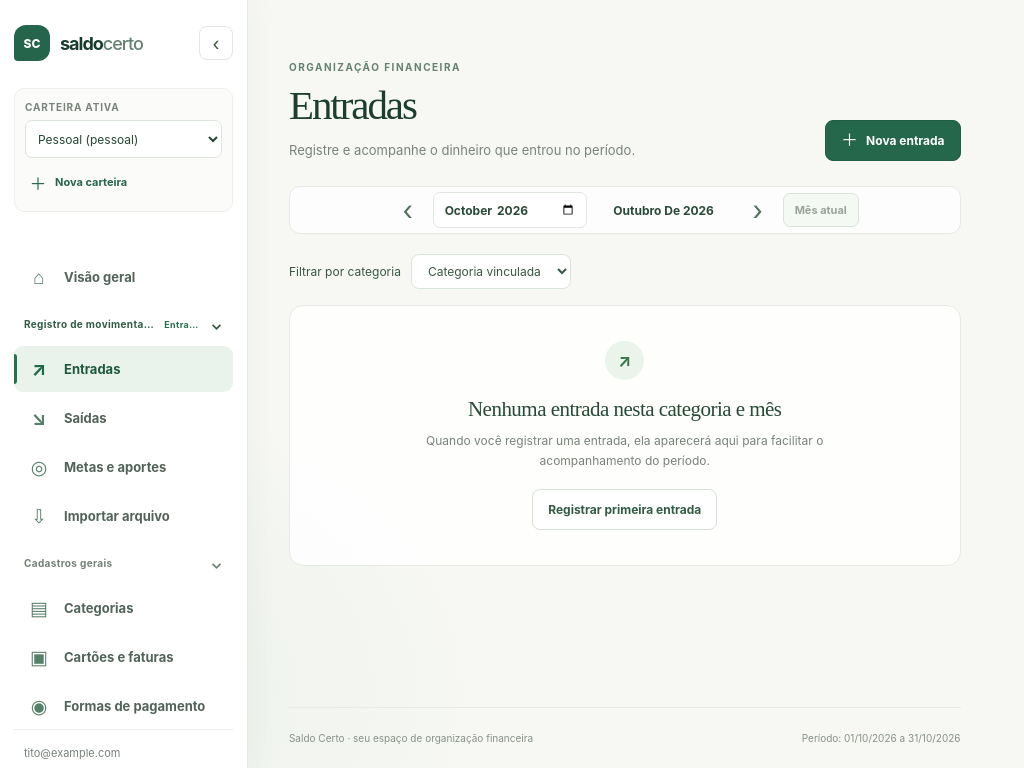
Scenario: IncomesPage currency input › keeps a missing linked category explicit and clears it on wallet change
Expected: the heading "Nenhuma entrada nesta categoria e mês" is shown, [468,397,782,422]
Select "Família" in the dropdown labelled "Carteira ativa" at (124, 139), box [25,120,222,158]
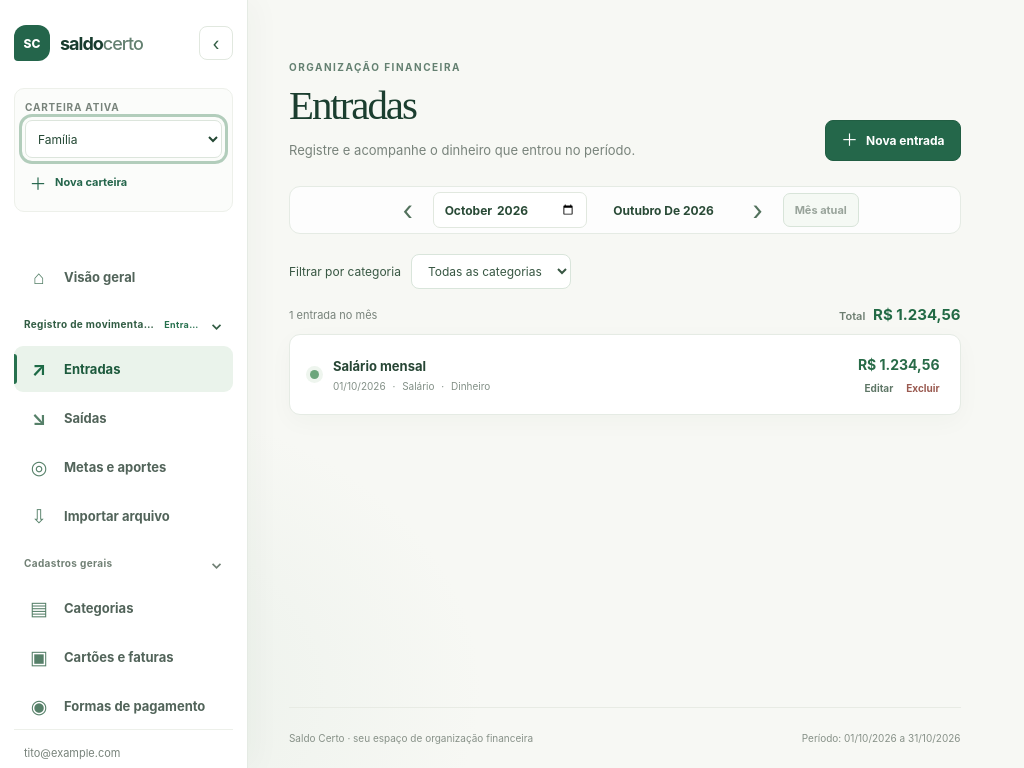
Now the heading "Salário mensal" is shown, box [333,358,426,374]
Now the dropdown labelled "Filtrar por categoria" shows "Todas as categorias", box [411,254,571,289]
